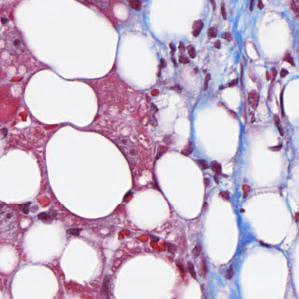inflammation: (195, 155, 232, 188), (164, 40, 204, 70)
